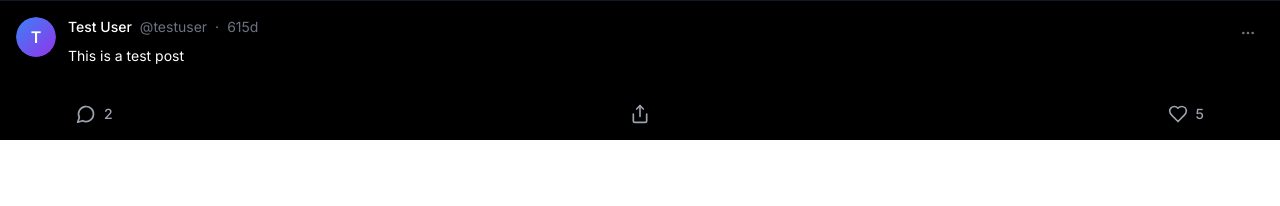
Test: PostCard › toggles comments when comment button is clicked
Click the button "2" at x=94, y=114, box [64,96,125,132]
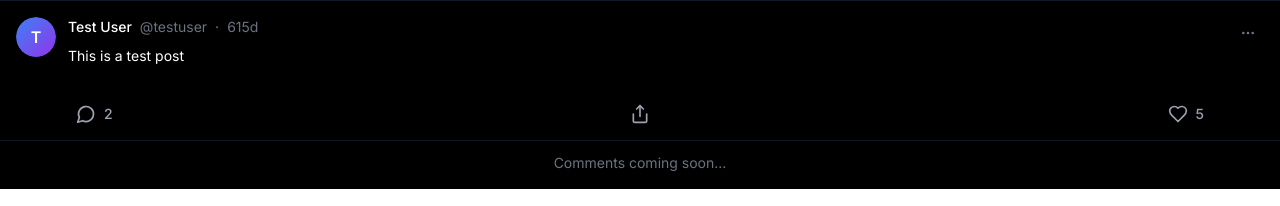
Now the text "Comments coming soon..." is shown, box [554,154,726,171]
